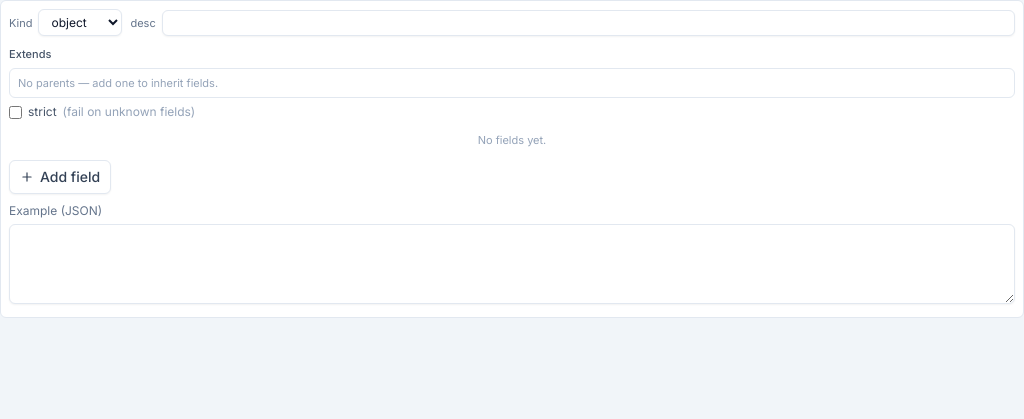
Test: adds object field
The image size is (1024, 419).
Click the button "Add field": (60, 177) [9,160,111,194]
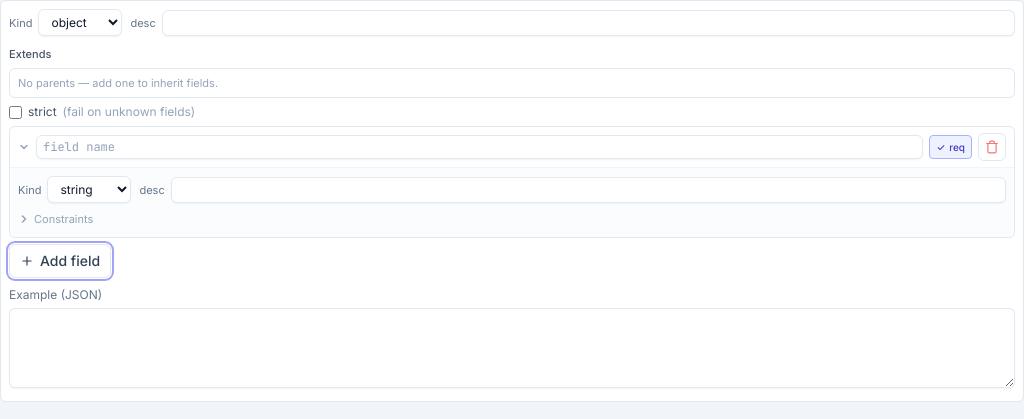
Now the field labelled "field name" is shown, box [36,135,923,159]
